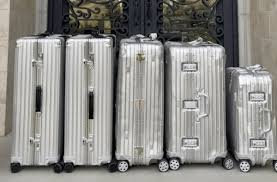suitcase: (164, 37, 228, 170), (10, 32, 64, 176), (63, 32, 117, 165), (118, 33, 165, 171), (225, 63, 274, 164)
